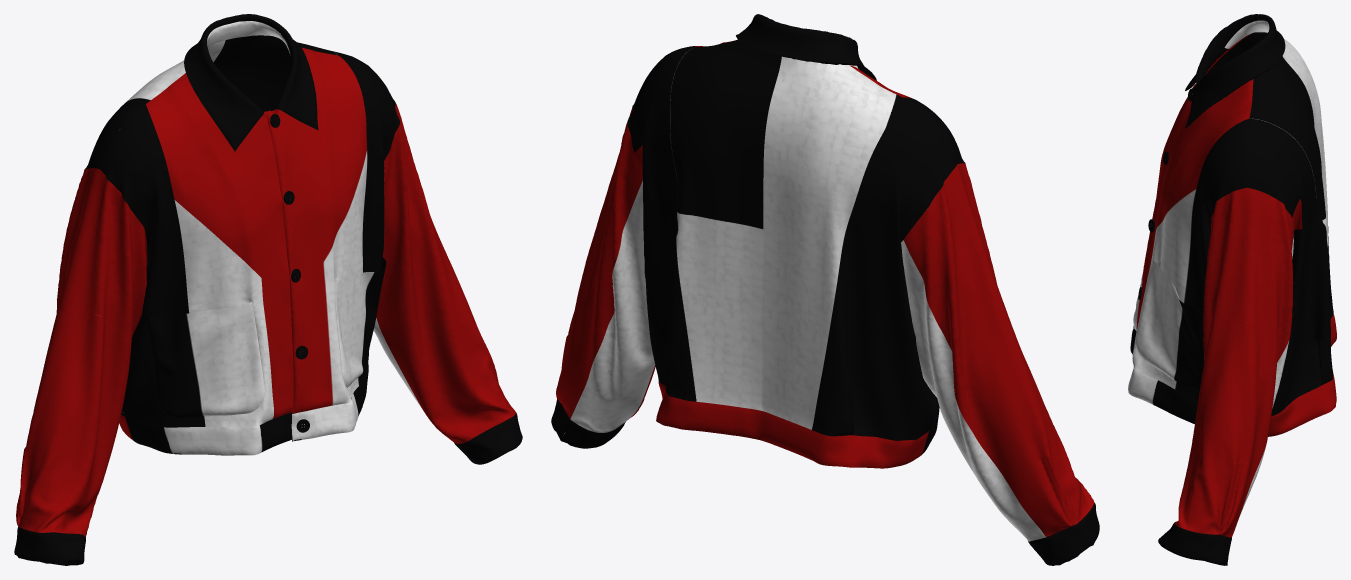
The model's file is garment.glb.
3 views of the same model, side by side, from view 1: azimuth 30°, elevation 25°; view 2: azimuth 150°, elevation 25°; view 3: azimuth 270°, elevation 25° (orthographic). The views are drawn at different scales.
Visible parts, largest first — view 1: Cloth; view 2: Cloth; view 3: Cloth.
Part boxes in pixels (x1=…): Cloth: x1=14, y1=14, x2=522, y2=565; Cloth: x1=551, y1=14, x2=1099, y2=565; Cloth: x1=1128, y1=14, x2=1336, y2=565.
Bounding box in the file's own units: 0.8421 × 0.7632 × 0.3257.
Materials: 16 (16 with a texture image).
